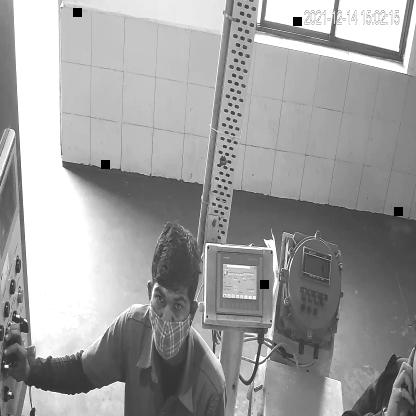no_goggles: (151, 284, 188, 320)
